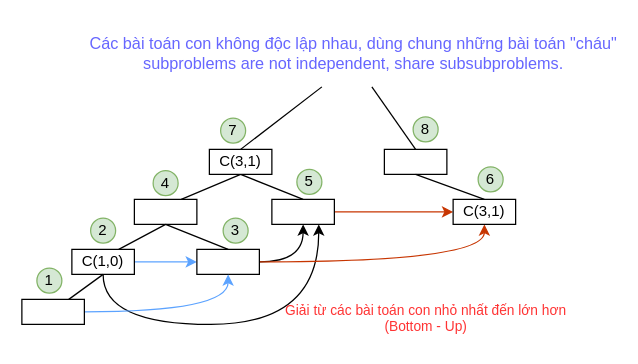
This 638x364 diagram has some shape labels left out. Here are the shapes that lost their labels. From the top down, the centre of each, then its label:
At (415,161): "C(3,2)".
At (165,211): "C(2,0)".
At (302,211): "C(2,1)".
At (227,261): "C(1,1)".
At (52,311): "C(0,0)".
